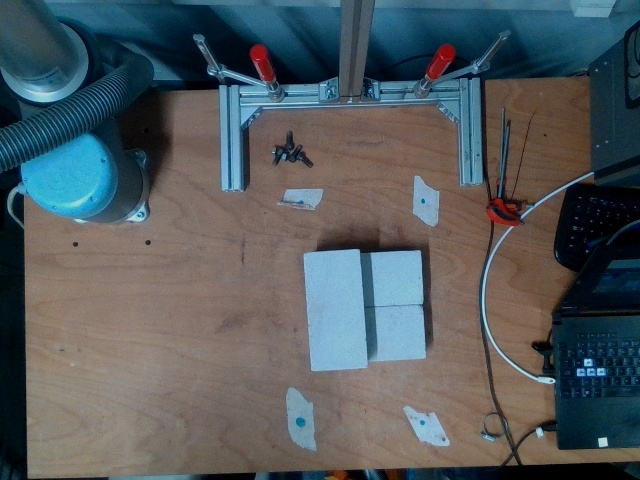brick: (304, 252, 369, 369)
